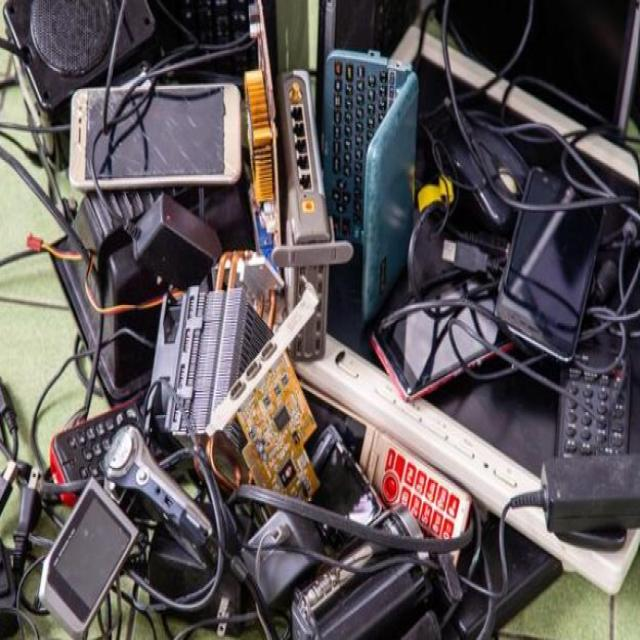electronic: (322, 37, 428, 333), (55, 70, 258, 213), (485, 135, 600, 363), (28, 445, 160, 640), (554, 338, 634, 554), (124, 180, 243, 310)
